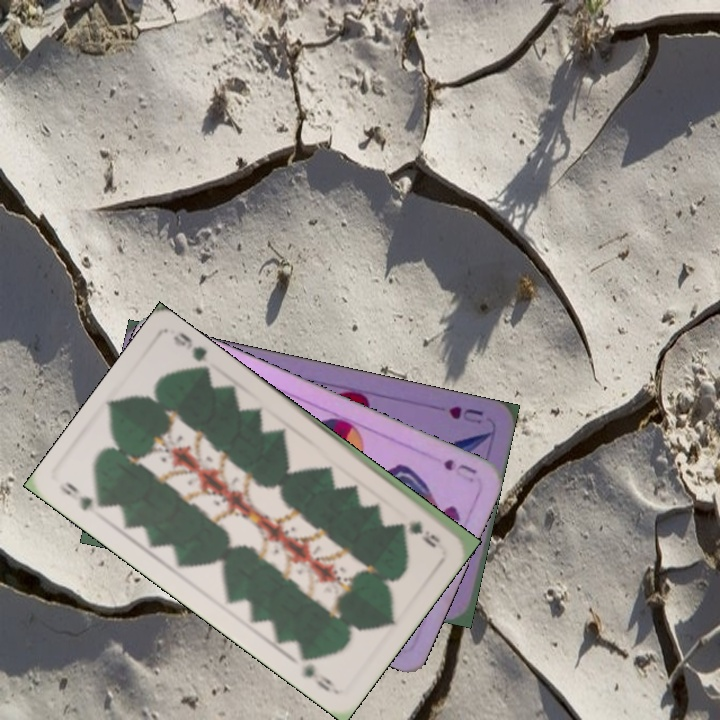G9: (54, 477, 110, 514), (405, 516, 443, 549)
HU: (445, 402, 486, 426)
SU: (439, 455, 480, 485)
